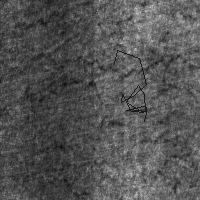crazing: (20, 50, 194, 102), (106, 109, 195, 188), (114, 50, 146, 121)
